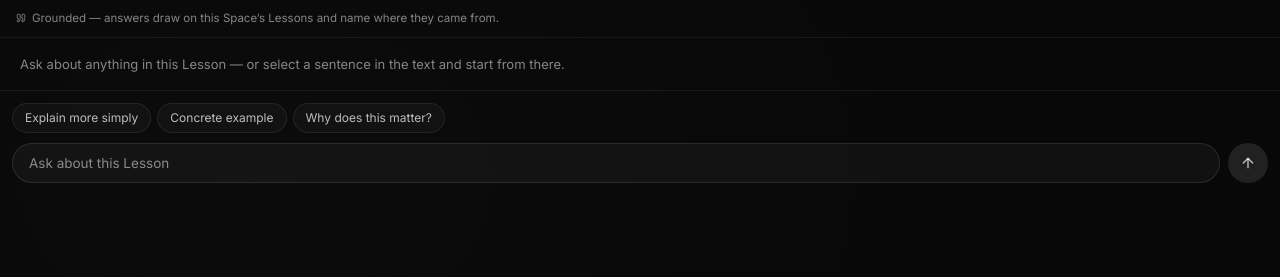
Test case: a question, its wait, and its answer › sends what was typed, on Enter, and empties the field
The image size is (1280, 277).
Type "What breaks in 2NF?" into the field labelled "Ask about this Lesson" at (616, 163), box [12, 143, 1220, 183]
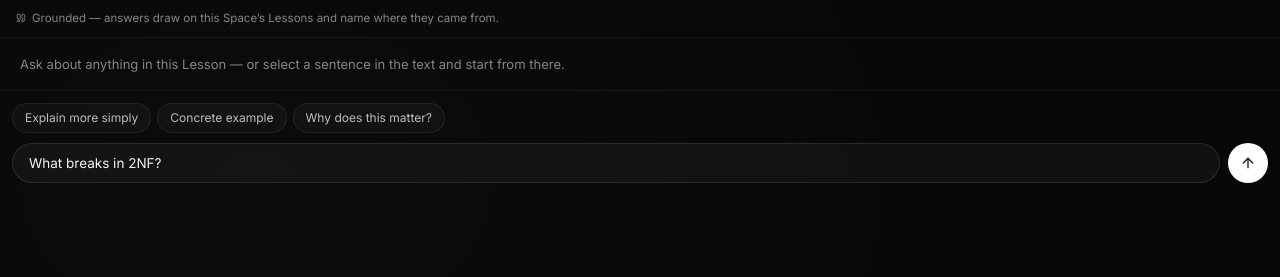
Submit the form named "Ask about this Lesson", box [12, 143, 1268, 183]
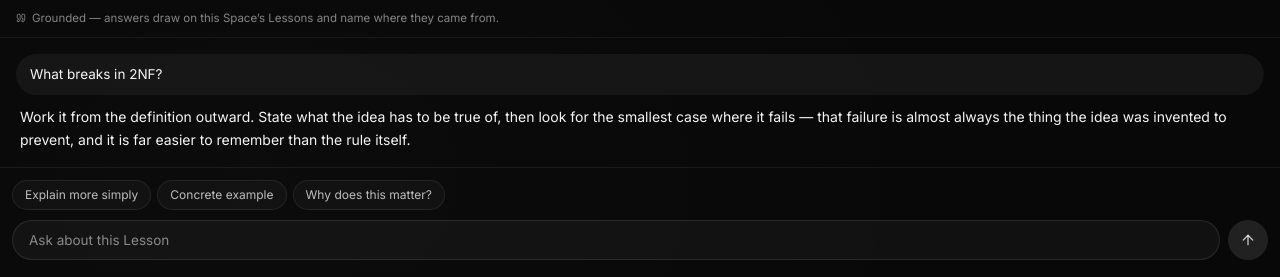
Check: the text "What breaks in 2NF?" is shown, box [30, 66, 162, 82]
Check: the field labelled "Ask about this Lesson" is empty, box [12, 220, 1220, 260]
Check: the text "Work it from the definition outward. State what the idea has to be true of, then look for the smallest case where it fai" is shown, box [20, 108, 1227, 148]
